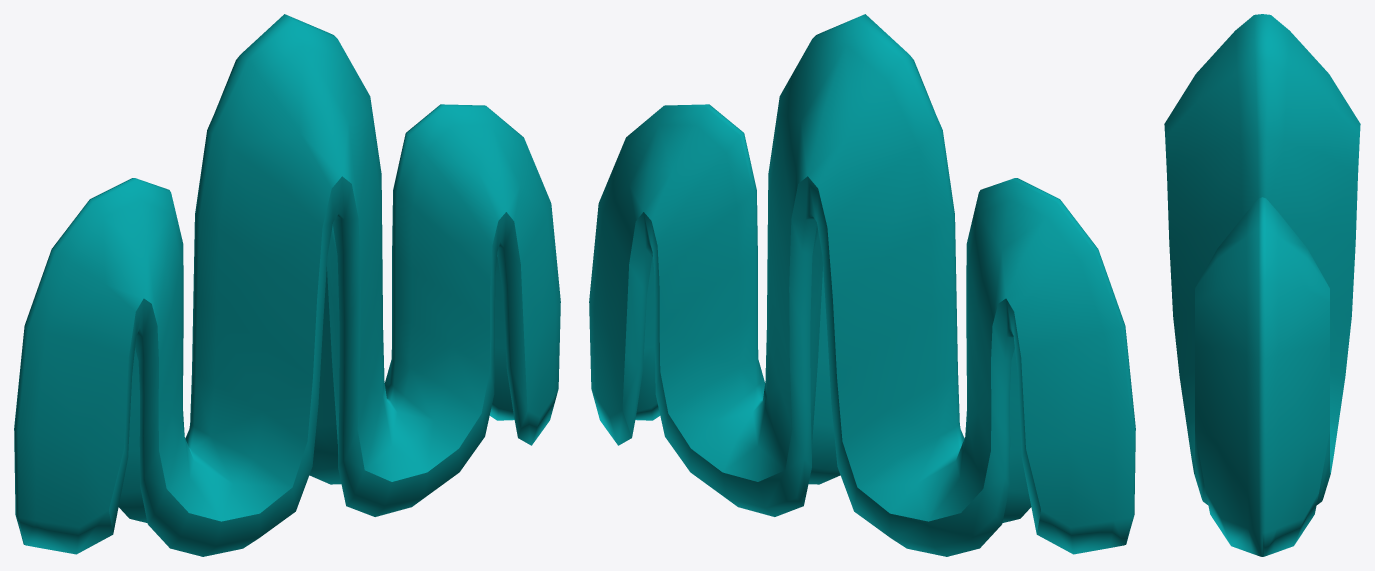
Rendered from Bush 2.glb.
3 views of the same model, side by side, from view 1: azimuth 30°, elevation 25°; view 2: azimuth 150°, elevation 25°; view 3: azimuth 270°, elevation 25° (orthographic). The views are drawn at different scales.
Parts seen in each view (by area): view 1: Bush_2; view 2: Bush_2; view 3: Bush_2.
Boxes of the visible parts, box(x1,y1,x2,y2) form: Bush_2: box(14, 14, 560, 556); Bush_2: box(589, 14, 1135, 556); Bush_2: box(1164, 14, 1360, 556).
Bounding box in the file's own units: 1.82 × 1.6 × 0.6207.
Materials: 1 (1 with a texture image).
